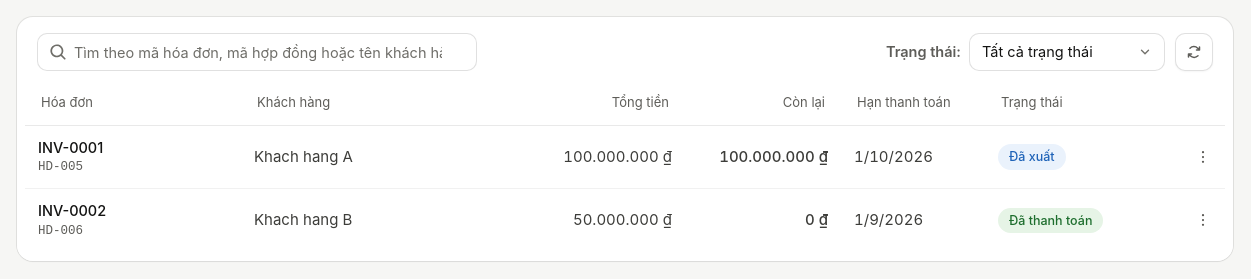
Test: InvoiceListPage (NCL-10-CN-003 — Ghi nhận thanh toán của khách hàng) › lọc theo trạng thái chỉ còn hóa đơn khớp
Expected: the table with test id "invoice-table" is shown, left=25, top=81, right=1225, bottom=252
Select "Đã thanh toán" in the dropdown labelled "Trạng thái:": (1067, 52) left=969, top=33, right=1165, bottom=71
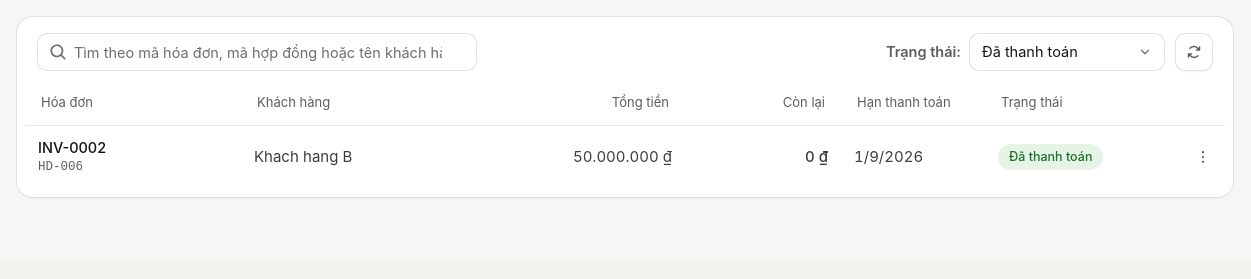
Expected: the text "INV-0002" is shown, left=38, top=138, right=106, bottom=156
Now the text "INV-0001" is gone
